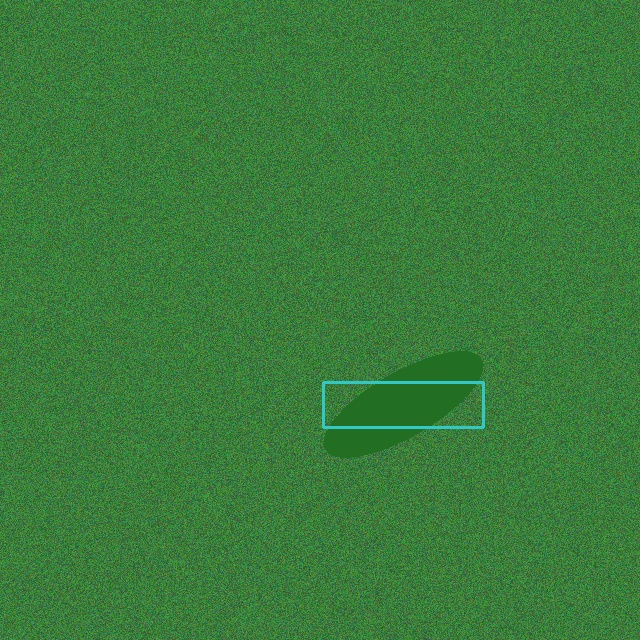army worm: (313, 372, 493, 437)
